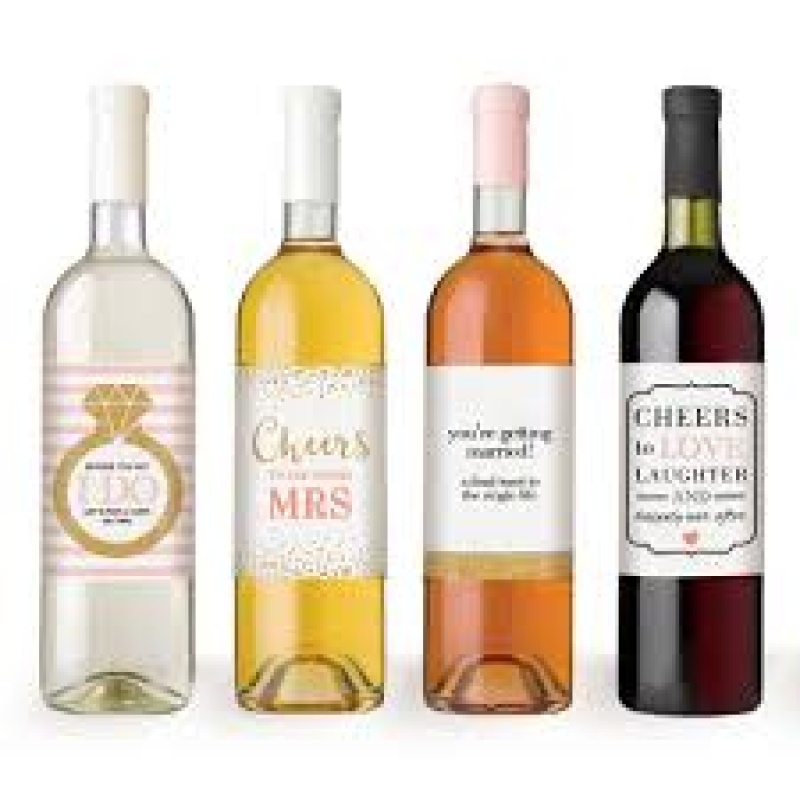wine: (41, 98, 199, 704), (421, 99, 578, 705), (619, 103, 769, 713), (236, 110, 388, 703)
